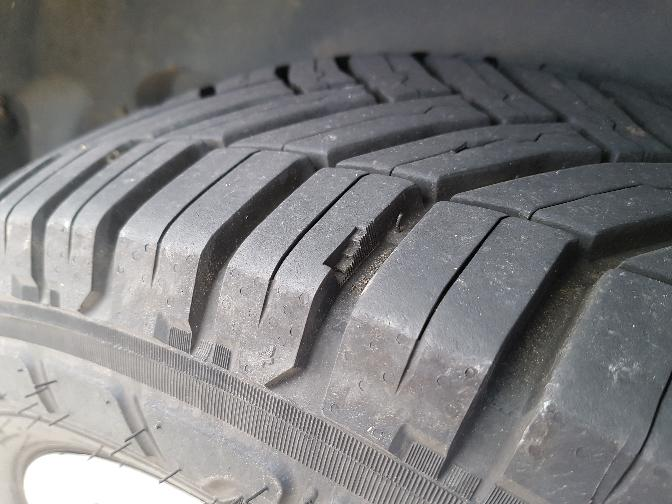temoin:90: (319, 216, 385, 292)
